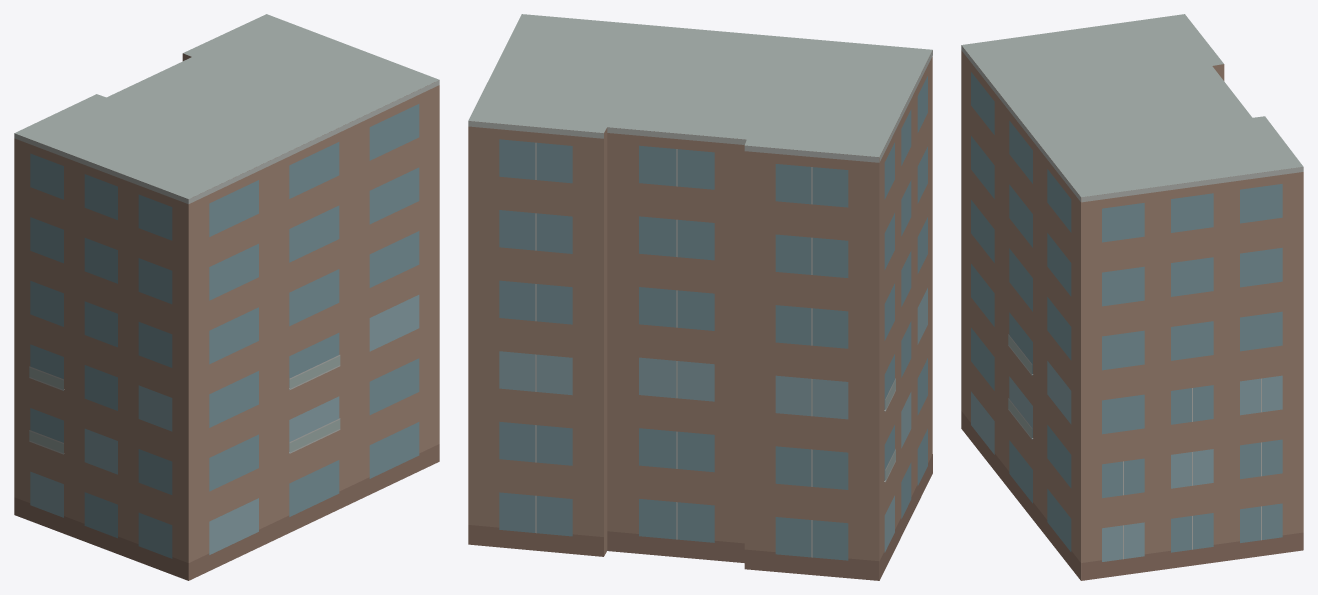
Rendered from survey-upis-33014073.glb.
3 views of the same model, side by side, from view 1: azimuth 30°, elevation 25°; view 2: azimuth 150°, elevation 25°; view 3: azimuth 270°, elevation 25° (orthographic). The views are drawn at different scales.
Visible parts, largest first — view 1: survey-upis-33014073.tmp; view 2: survey-upis-33014073.tmp; view 3: survey-upis-33014073.tmp.
Boxes of the visible parts, left/top/right/bottom form: survey-upis-33014073.tmp: left=14, top=14, right=439, bottom=580; survey-upis-33014073.tmp: left=468, top=14, right=932, bottom=580; survey-upis-33014073.tmp: left=961, top=14, right=1303, bottom=580.
Bounding box in the file's own units: 18.77 × 18.3 × 14.81.
